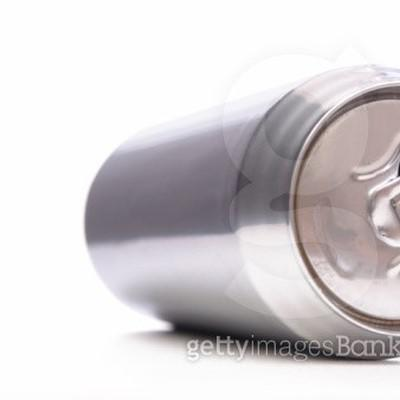beer: (83, 63, 400, 363)
